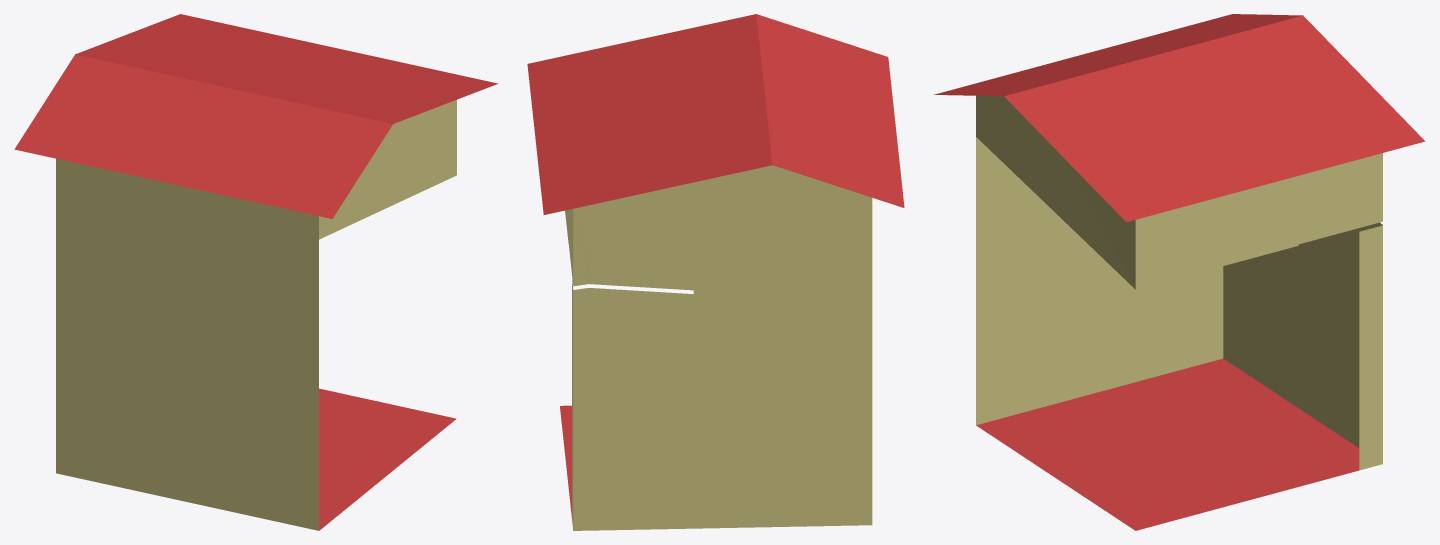
3 views of the same model, side by side, from view 1: azimuth 30°, elevation 25°; view 2: azimuth 150°, elevation 25°; view 3: azimuth 270°, elevation 25° (orthographic).
Bounding box in the file's own units: 12.03 × 12.01 × 10.01.
